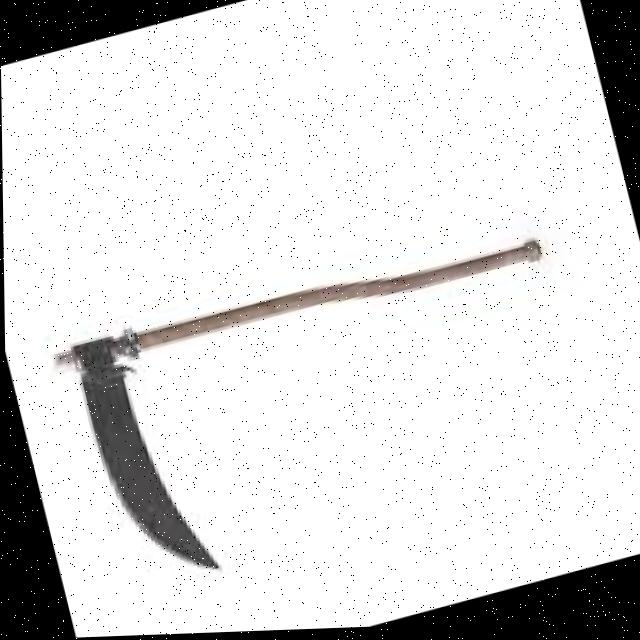sickle: (27, 172, 640, 623)
